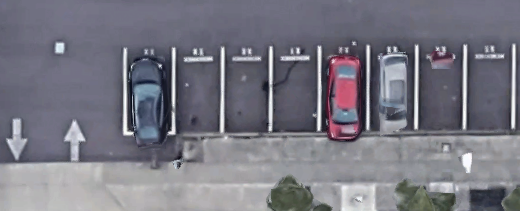Occupied: (318, 46, 368, 134), (124, 48, 172, 134), (368, 46, 416, 132)
Vacant: (173, 48, 223, 134), (271, 47, 319, 134), (464, 46, 513, 131), (416, 45, 464, 131), (223, 47, 270, 134)
